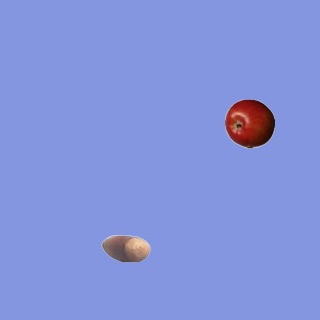Apple Braeburn: (224, 98, 274, 148)
Hazelnut: (100, 223, 150, 273)
